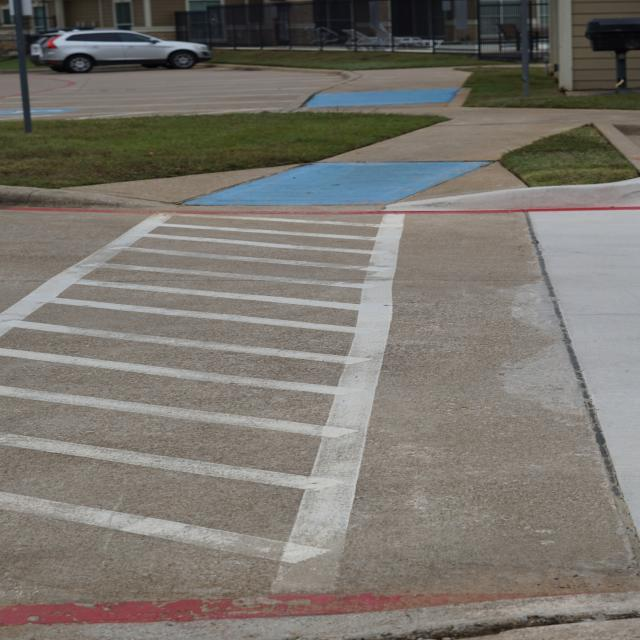Automobile: (30, 30, 211, 73)
Obstacle: (9, 0, 32, 133), (521, 0, 530, 98)
Road: (0, 209, 640, 625), (28, 65, 344, 119), (0, 71, 22, 125)
Sidewalk: (61, 68, 640, 205), (0, 591, 640, 640)
